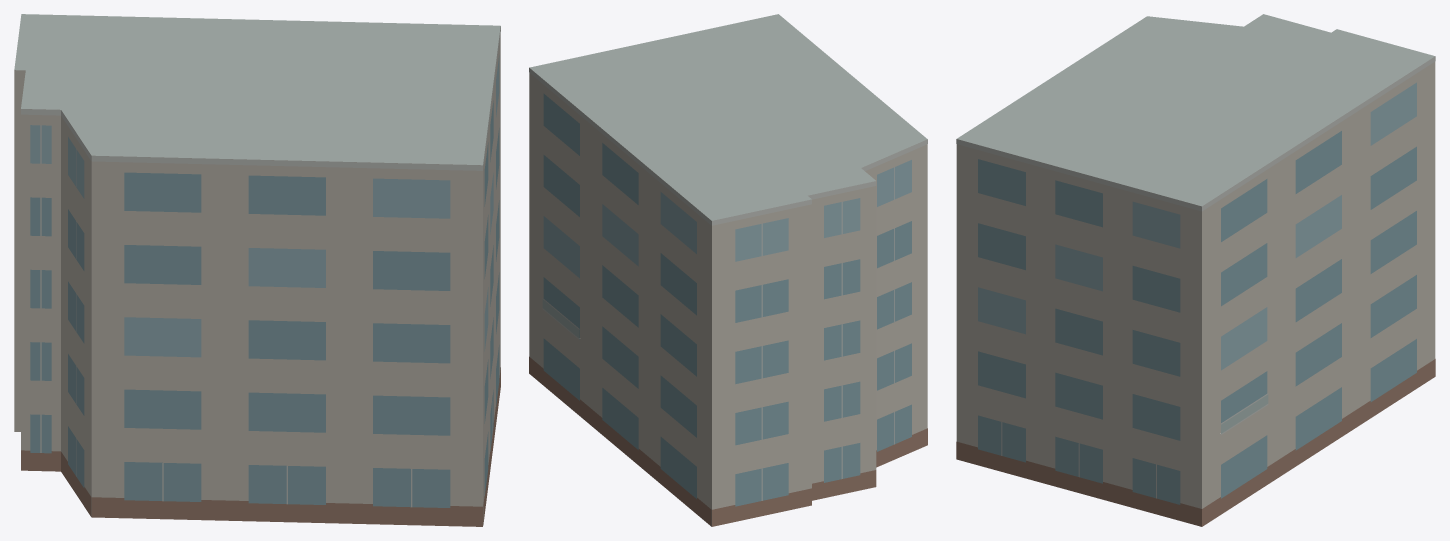
The model's file is survey-upis-32935393.glb.
3 views of the same model, side by side, from view 1: azimuth 30°, elevation 25°; view 2: azimuth 150°, elevation 25°; view 3: azimuth 270°, elevation 25° (orthographic). The views are drawn at different scales.
Visible parts, largest first — view 1: survey-upis-32935393.tmp; view 2: survey-upis-32935393.tmp; view 3: survey-upis-32935393.tmp.
Boxes of the visible parts, left/top/right/bottom form: survey-upis-32935393.tmp: left=14, top=14, right=500, bottom=526; survey-upis-32935393.tmp: left=529, top=14, right=927, bottom=526; survey-upis-32935393.tmp: left=956, top=14, right=1435, bottom=526.
Bounding box in the file's own units: 19.65 × 15.25 × 20.67.
